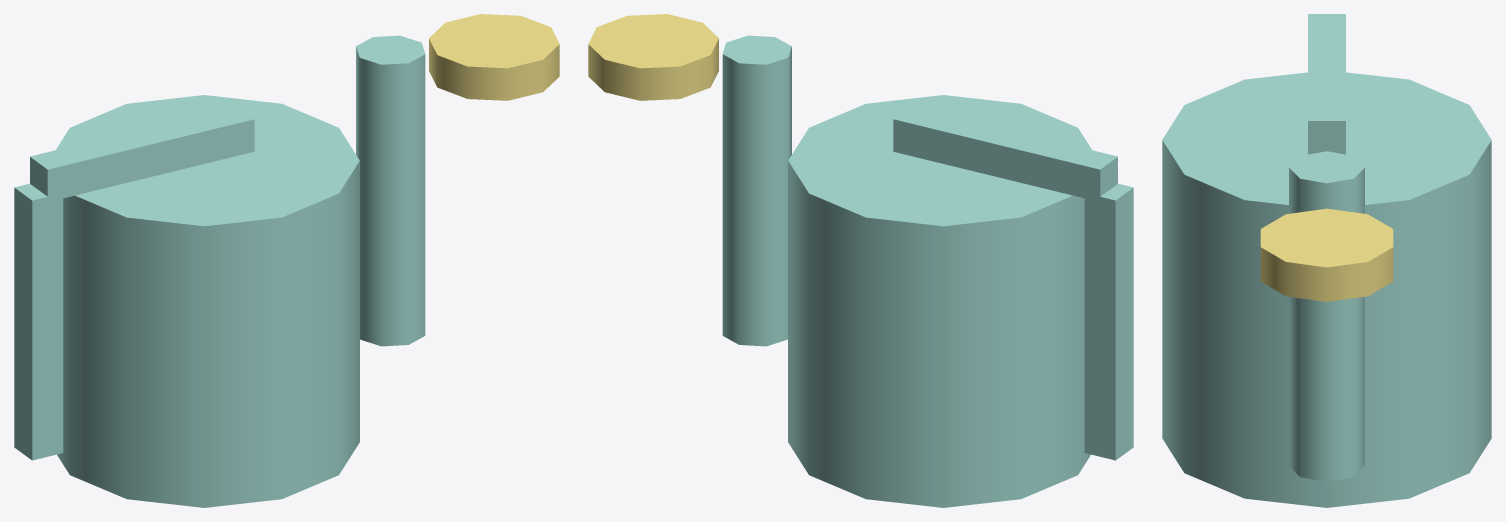
The model's file is tool_watering_can.glb.
3 views of the same model, side by side, from view 1: azimuth 30°, elevation 25°; view 2: azimuth 150°, elevation 25°; view 3: azimuth 270°, elevation 25° (orthographic). The views are drawn at different scales.
Parts seen in each view (by area): view 1: ToolWateringCan; view 2: ToolWateringCan; view 3: ToolWateringCan.
Part boxes in pixels (box(x1,y1,x2,y2)): ToolWateringCan: box(14, 14, 559, 507); ToolWateringCan: box(588, 14, 1133, 507); ToolWateringCan: box(1162, 14, 1491, 507).
Size of the model in its own units: 0.51 by 0.32 by 0.26.
